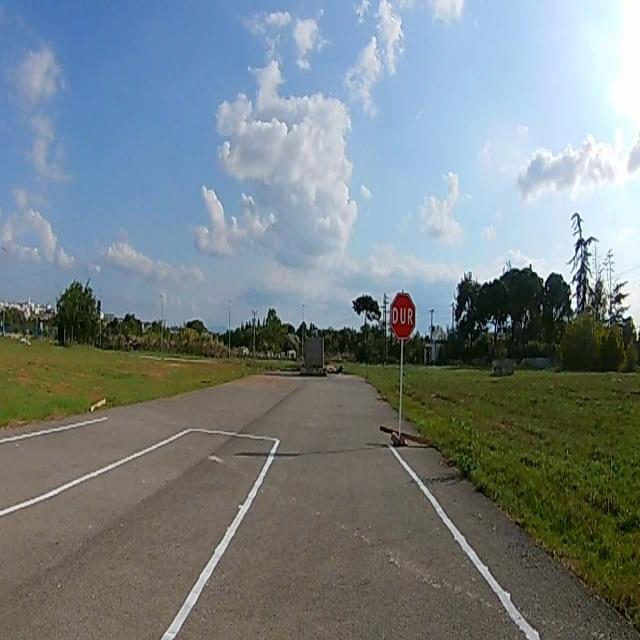dur: (390, 293, 416, 339)
